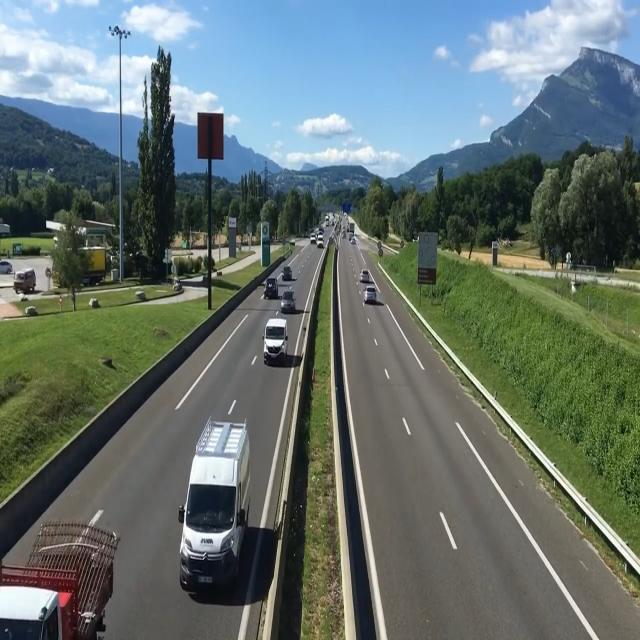car: (177, 410, 248, 605), (261, 318, 291, 368), (361, 274, 380, 310), (261, 274, 279, 302), (280, 291, 299, 316)
